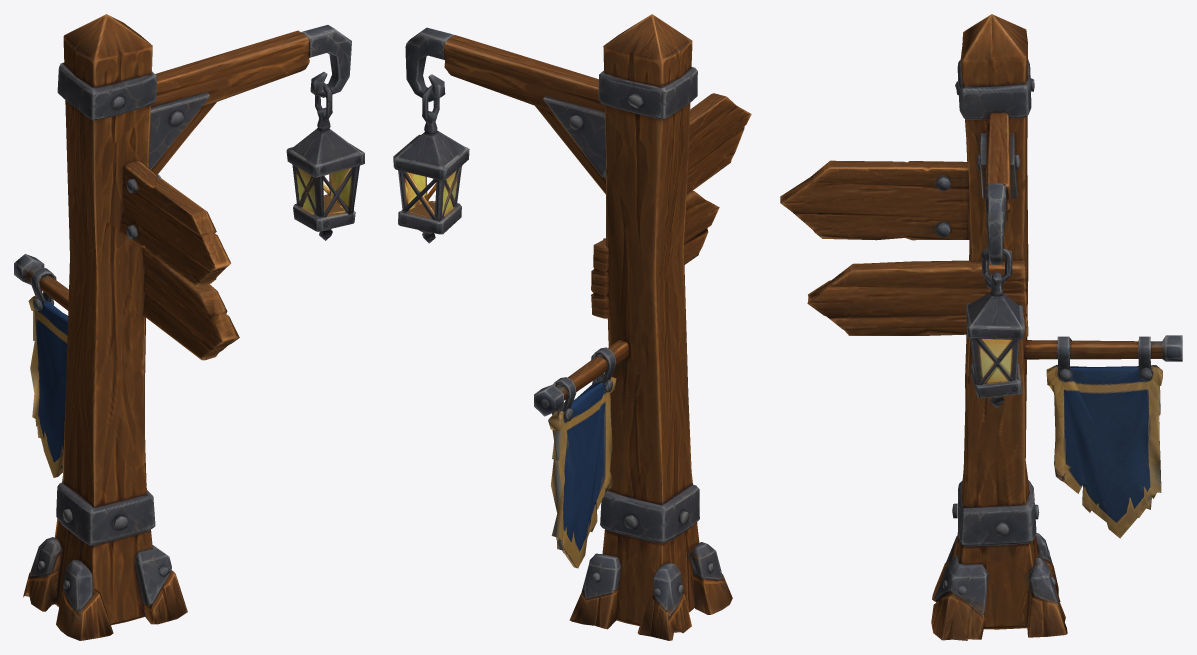
Rendered from guard-post.glb.
3 renders of one model, left to right at view 1: azimuth 30°, elevation 25°; view 2: azimuth 150°, elevation 25°; view 3: azimuth 270°, elevation 25°, orthographic.
Size of the model in its own units: 0.5127 by 0.9526 by 0.5806.
Materials: 1 (1 with a texture image).
